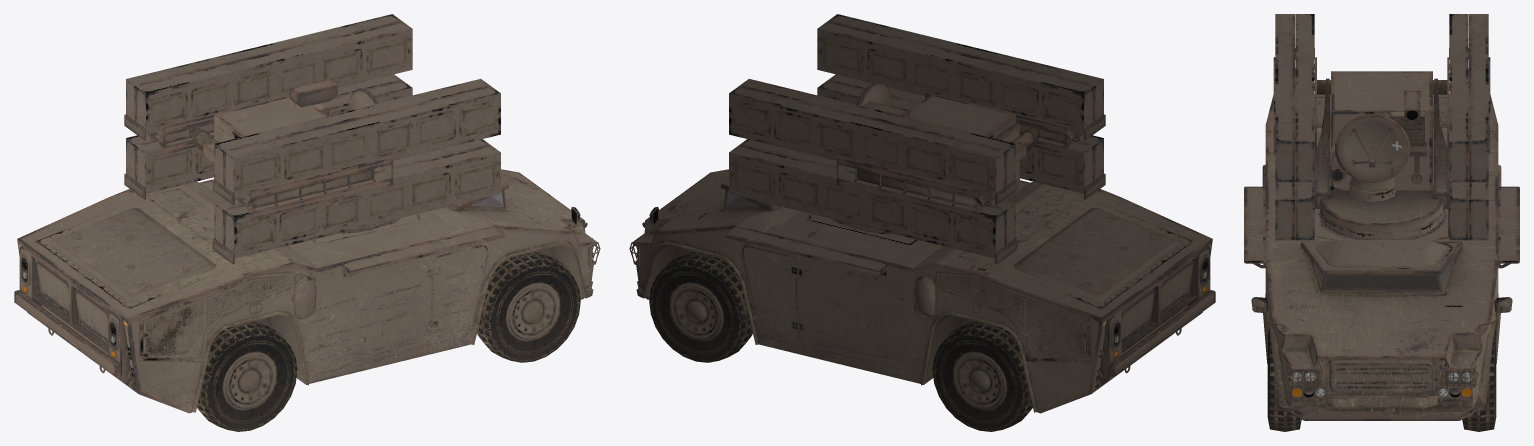
The model's file is cactus_sahv_south_africa.glb.
The picture shows the model from 3 angles, left to right: view 1: azimuth 30°, elevation 25°; view 2: azimuth 150°, elevation 25°; view 3: azimuth 270°, elevation 25°; orthographic projection.
Visible parts, largest first — view 1: mesh_285_mat_10_0; view 2: mesh_285_mat_10_0; view 3: mesh_285_mat_10_0, mesh_286_mat_11_0.
Part boxes in pixels (bbox=[...]): mesh_285_mat_10_0: bbox=[14, 14, 600, 431]; mesh_285_mat_10_0: bbox=[629, 14, 1215, 431]; mesh_285_mat_10_0: bbox=[1244, 14, 1519, 431]; mesh_286_mat_11_0: bbox=[1314, 264, 1449, 289].
Bounding box in the file's own units: 68.29 × 36.63 × 33.83.
2 materials, 2 textured.
